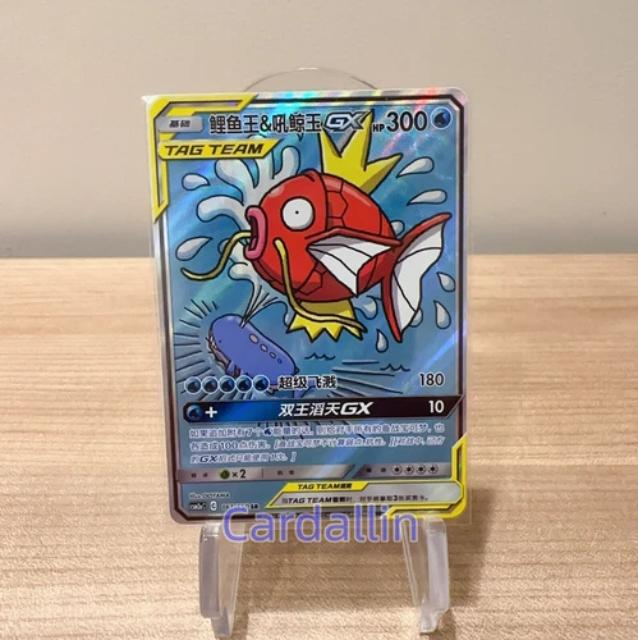Card: (143, 82, 474, 530)
Name: (202, 104, 377, 139)
